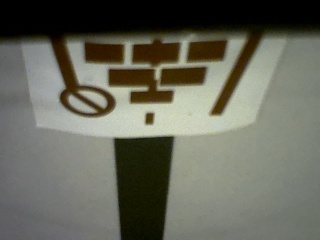Clearing_Zone: (44, 34, 264, 127)
